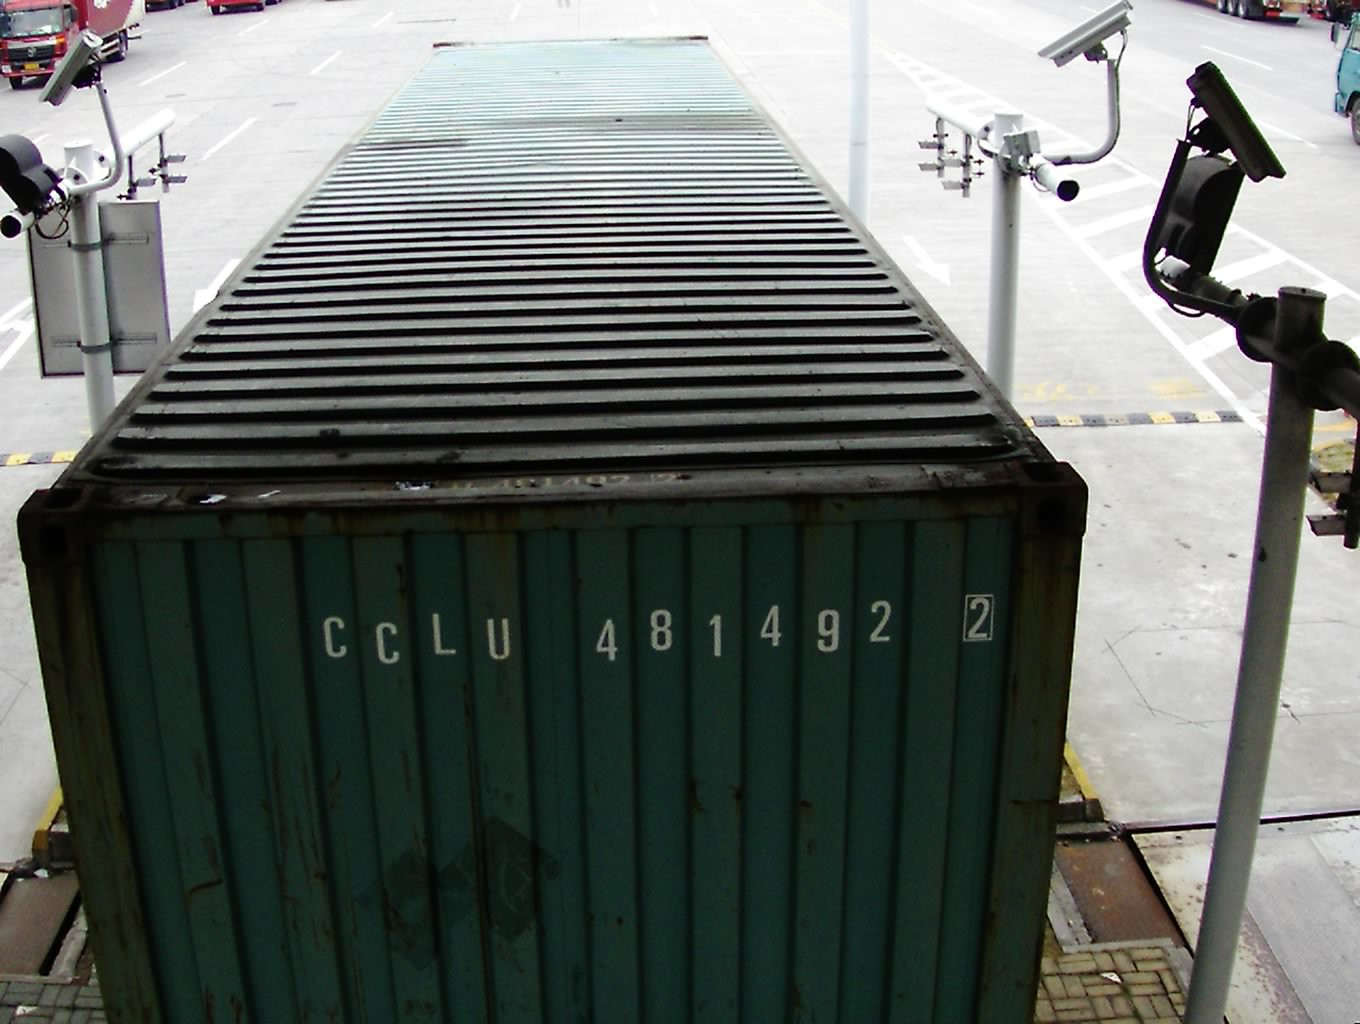words: (307, 592, 1007, 669)
